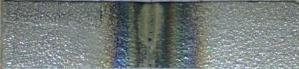soldas: (108, 1, 205, 69)
